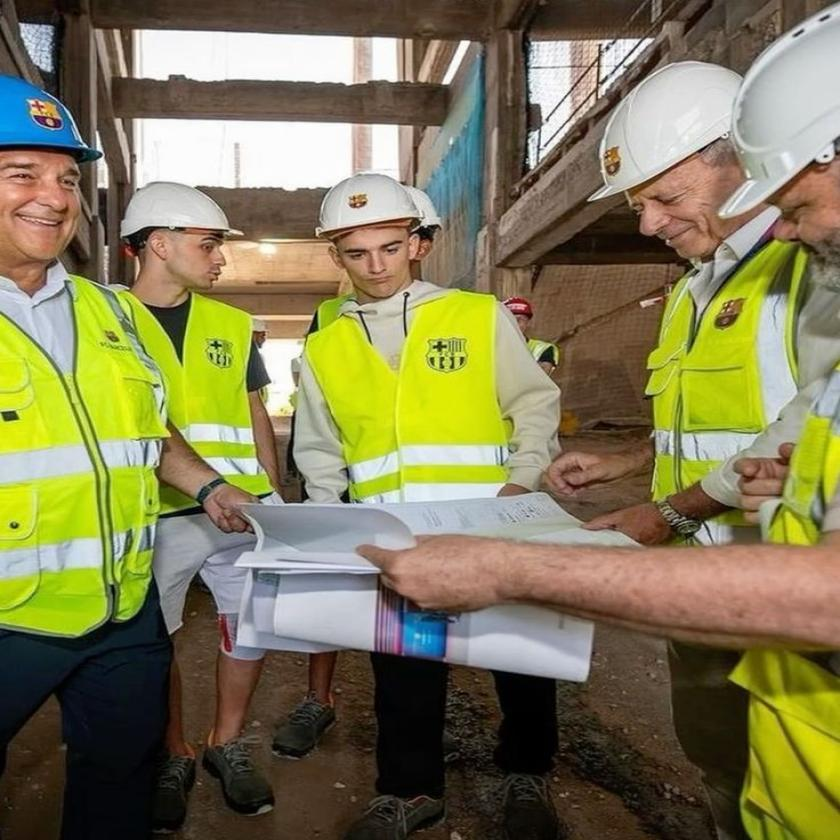Con_casco: (580, 58, 748, 272), (0, 77, 107, 274), (121, 180, 254, 321), (314, 174, 433, 302)
